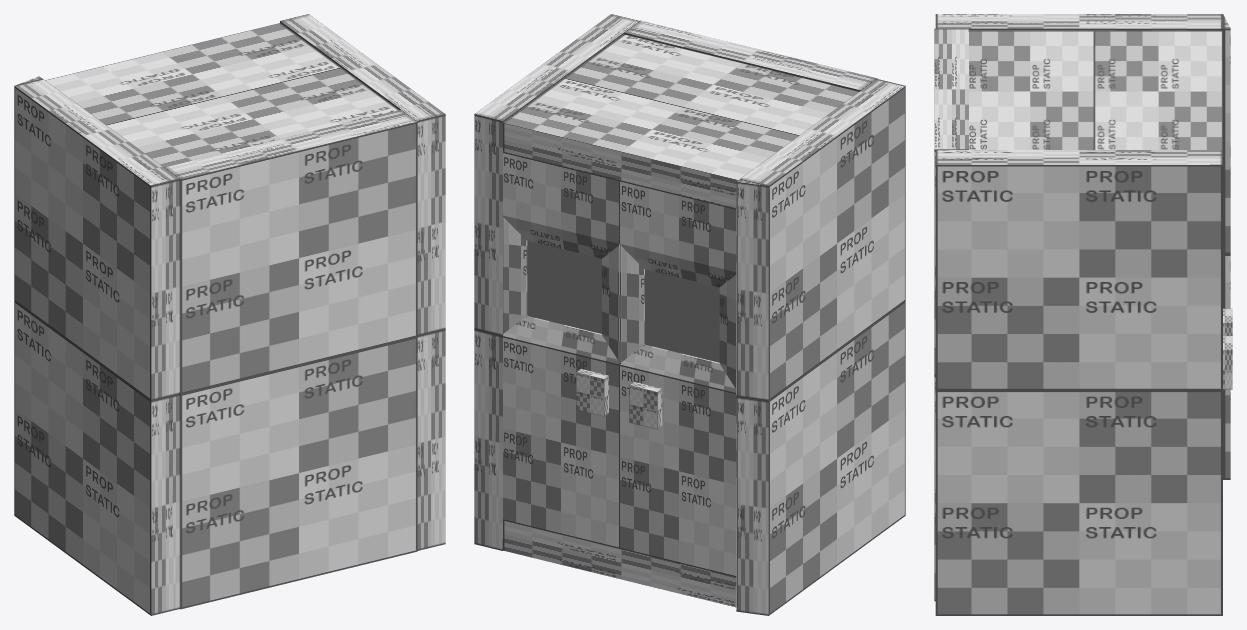
Rendered from Cabinet.fbx.
3 views of the same model, side by side, from view 1: azimuth 30°, elevation 25°; view 2: azimuth 150°, elevation 25°; view 3: azimuth 270°, elevation 25° (orthographic). The views are drawn at different scales.
Parts seen in each view (by area): view 1: Cabinet, Cabinet__2_, Cabinet__6_, Cabinet__1_, Cabinet__5_; view 2: Cabinet__2_, Cabinet__10_, Cabinet__11_, Cabinet__6_, Cabinet__1_, Cabinet__5_, Cabinet__7_, window, window_1, Cabinet, handle_1, handle_2; view 3: Cabinet__1_, Cabinet__6_, Cabinet__5_, Cabinet, Cabinet__2_, handle_2.
Boxes of the visible parts, x1,y1,x2,y2 form: Cabinet: [164, 109, 417, 609]; Cabinet__2_: [14, 79, 179, 615]; Cabinet__6_: [45, 23, 398, 167]; Cabinet__1_: [280, 14, 445, 550]; Cabinet__5_: [15, 76, 177, 185]; Cabinet__2_: [740, 79, 905, 615]; Cabinet__10_: [619, 180, 736, 577]; Cabinet__11_: [503, 151, 621, 548]; Cabinet__6_: [503, 34, 858, 208]; Cabinet__1_: [474, 14, 639, 550]; Cabinet__5_: [736, 79, 904, 615]; Cabinet__7_: [503, 520, 736, 607]; window: [645, 269, 719, 362]; window_1: [527, 240, 601, 333]; Cabinet: [624, 20, 877, 91]; handle_1: [629, 382, 662, 429]; handle_2: [576, 369, 608, 416]; Cabinet__1_: [935, 150, 1222, 615]; Cabinet__6_: [969, 30, 1222, 149]; Cabinet__5_: [935, 14, 1230, 479]; Cabinet: [934, 28, 968, 601]; Cabinet__2_: [935, 14, 1222, 30]; handle_2: [1223, 336, 1232, 389].
Bounding box in the file's own units: 159 × 222 × 133.
